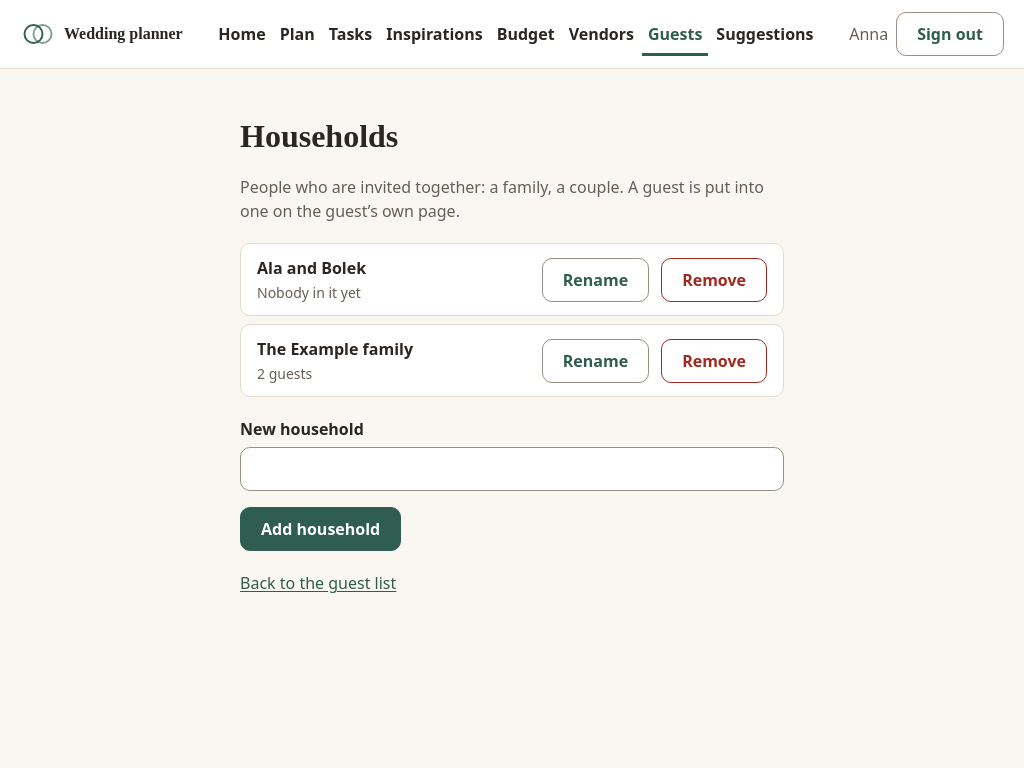
the households › removes a household after saying that its guests stay, and leads back to the list
Expected: the text "2 guests" is shown, [257, 364, 312, 383]
Expected: the text "Nobody in it yet" is shown, [257, 282, 366, 303]
Click the button with aria-label "Remove “The Example family”".
click(714, 361)  # box [661, 339, 767, 383]
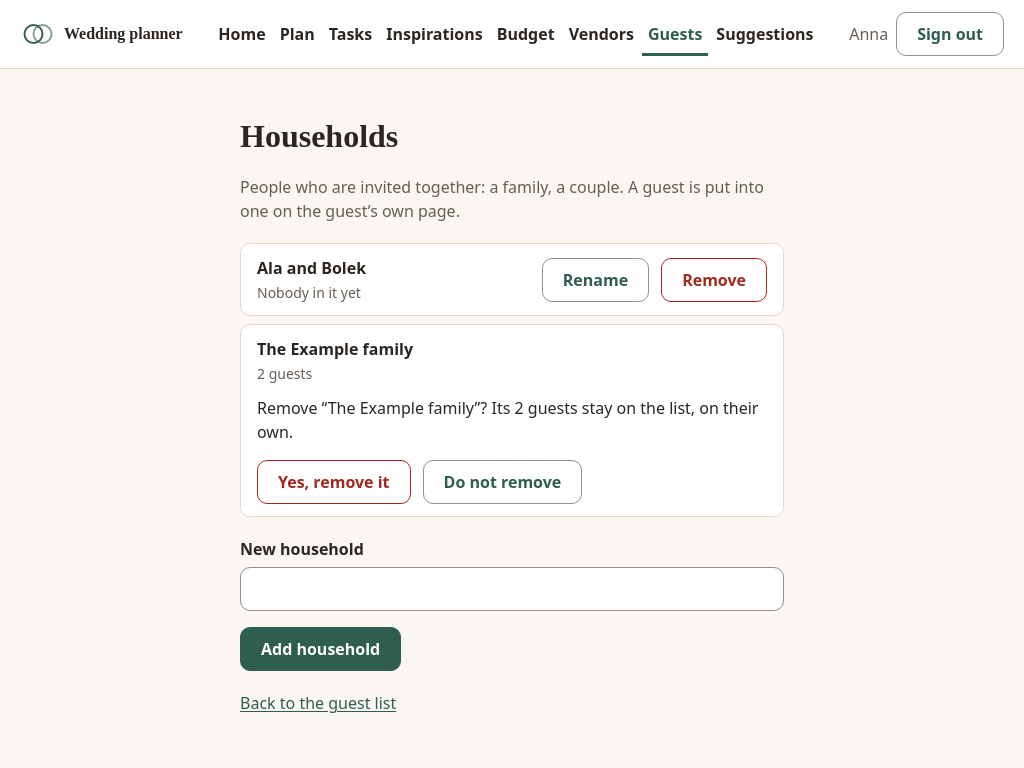
Result: the element "Remove “The Example family”" shows "Remove “The Example family”? Its 2 guests stay on the list, on their own." at [257, 396, 767, 504]
Click the button "Yes, remove it".
click(334, 482)  # box [257, 460, 411, 504]
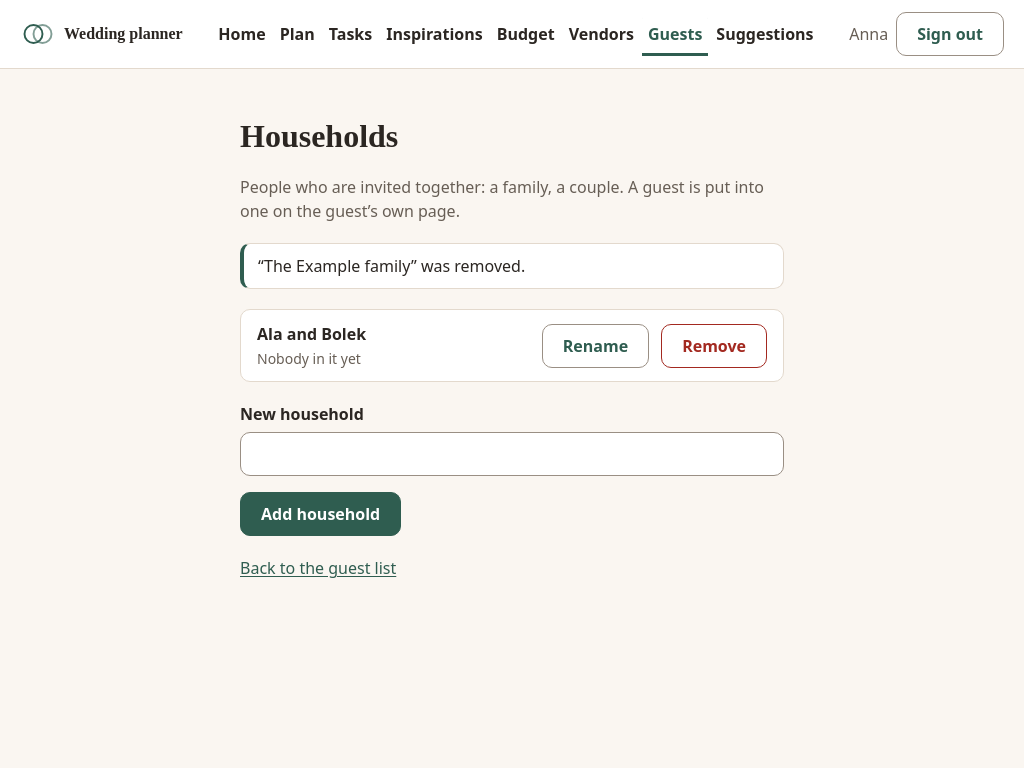
Result: the message reads "“The Example family” was removed." at [258, 255, 525, 277]
Click the link "Back to the guest list".
click(318, 568)  # box [240, 557, 396, 579]
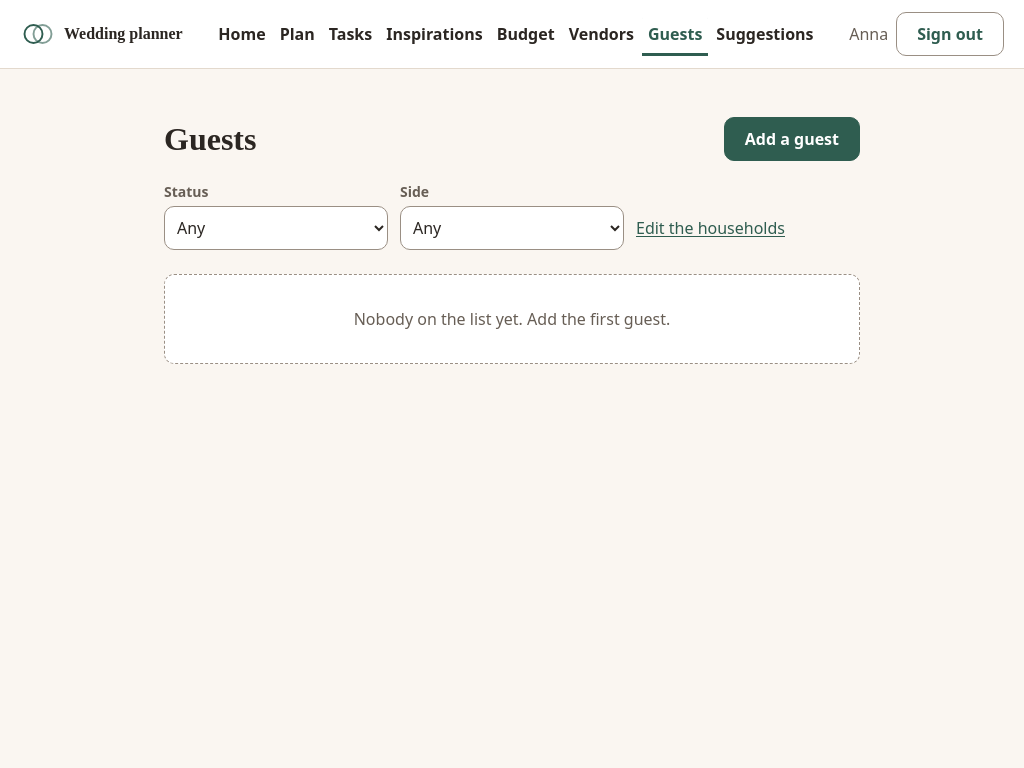
Result: the heading "Guests" is shown at [164, 120, 256, 158]
